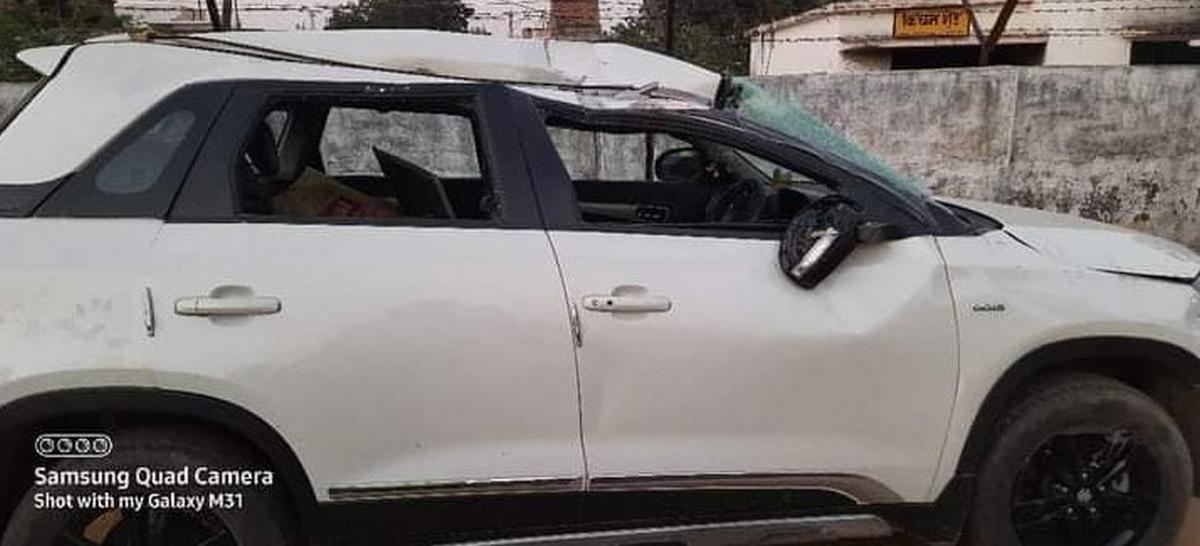Sidemirror-Damage: (753, 193, 891, 293)
doorouter-dent: (552, 231, 955, 479)
fender-dent: (943, 245, 1199, 433)
pillar-dent: (465, 85, 586, 232)
roof-dent: (175, 21, 723, 112)
